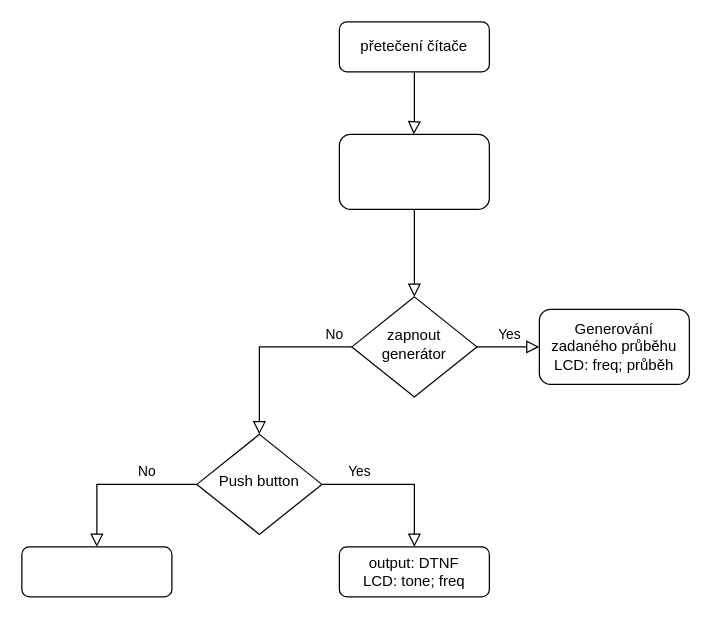
The diagram is 711 pixels wide and 619 high, and some of its shapes have lost their labels. Here are the shapes that lost their labels. From the top down, the centre of each, then its label:
point (413, 171): vstupní data klávesnice UART
point (96, 571): output: 0 LCD: idle
